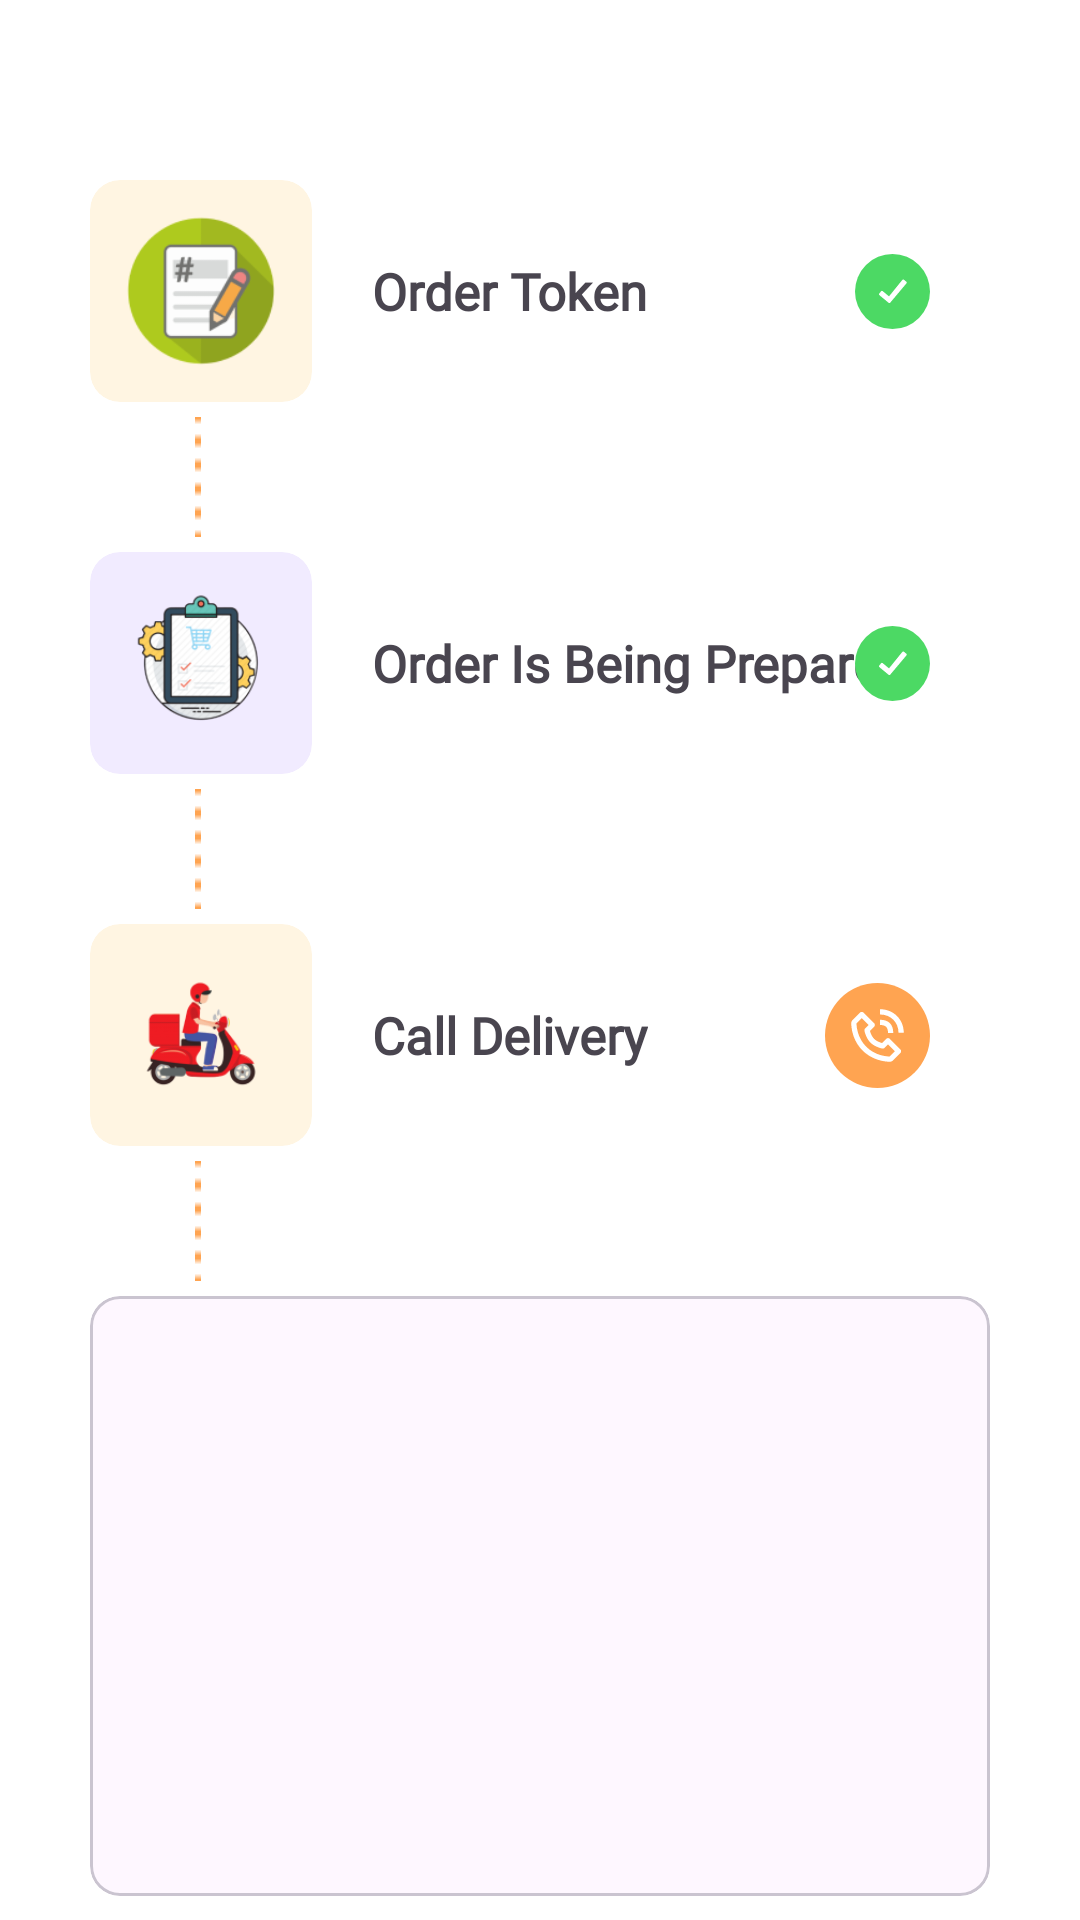

Point at icon controls on the screen. Image size 1080px x 1920px, points as point (x, y).
call delivary: point (877, 1035)
delivery man: point (201, 1033)
success: point (892, 291), point (892, 663)
